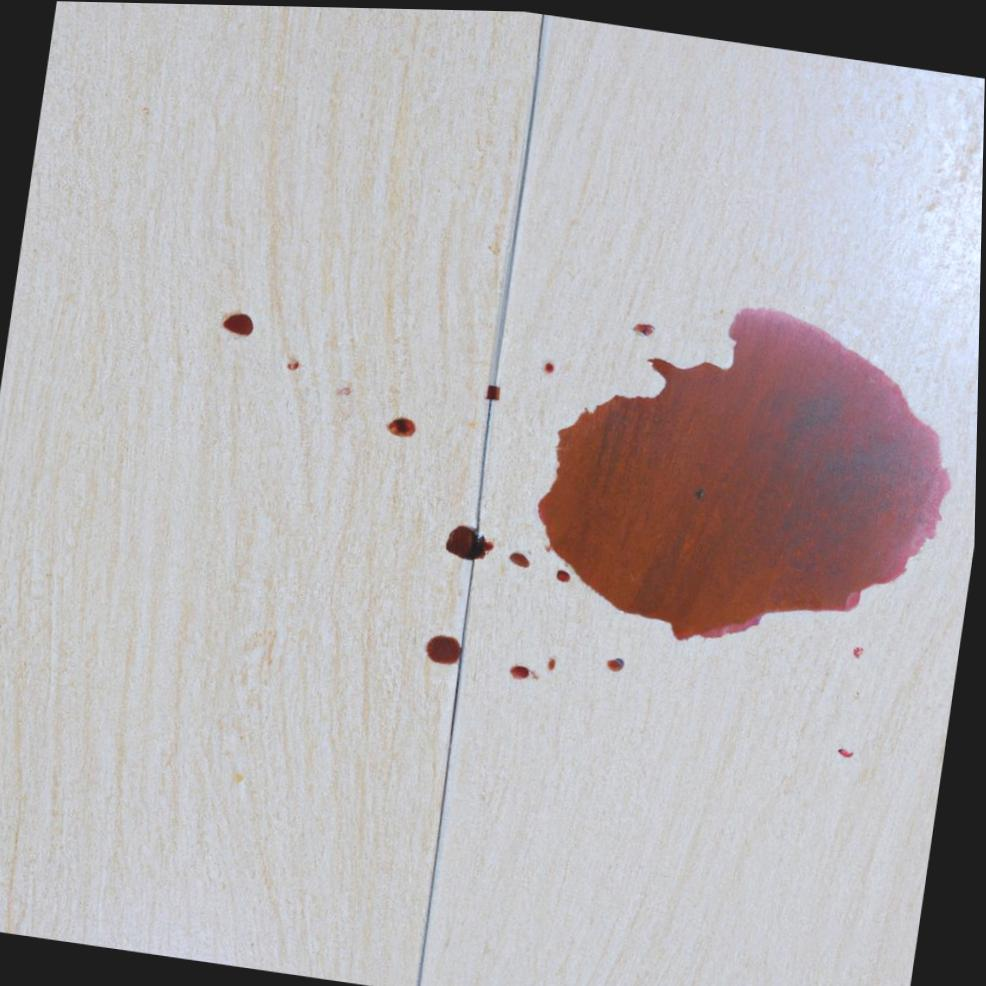Fire: (539, 304, 953, 638), (447, 524, 496, 559), (428, 633, 464, 664), (223, 313, 255, 336), (388, 416, 418, 436), (511, 551, 533, 567), (511, 663, 533, 678), (558, 567, 573, 580)
